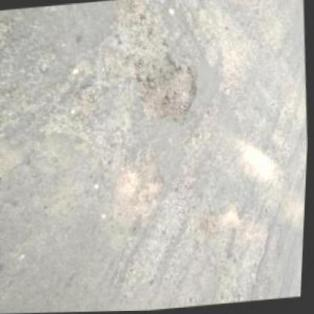Hueco: (138, 53, 203, 129), (39, 84, 104, 144), (138, 175, 168, 205)
